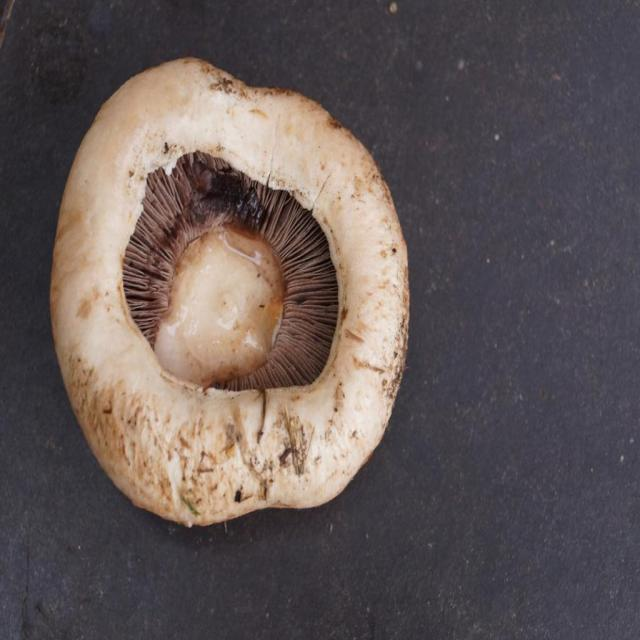Agaricus bisporus: (51, 56, 412, 534)
